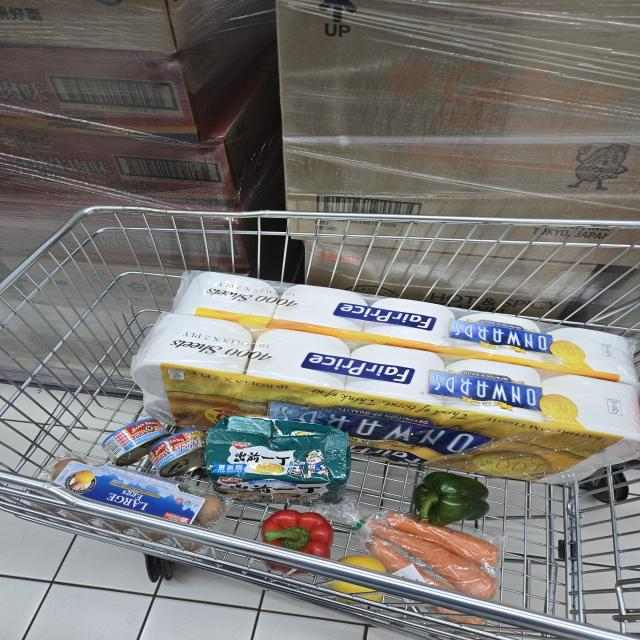bell-pepper: (410, 468, 497, 527), (255, 506, 331, 573)
carrot: (367, 512, 500, 599), (371, 540, 482, 626), (387, 510, 500, 568)
eggs: (48, 452, 229, 554)
instant-noodle: (205, 414, 355, 511)
lemon: (326, 554, 384, 594)
toilet-paper: (123, 309, 640, 496), (165, 261, 640, 382)
tuna-can: (105, 414, 168, 466), (148, 424, 212, 474)
